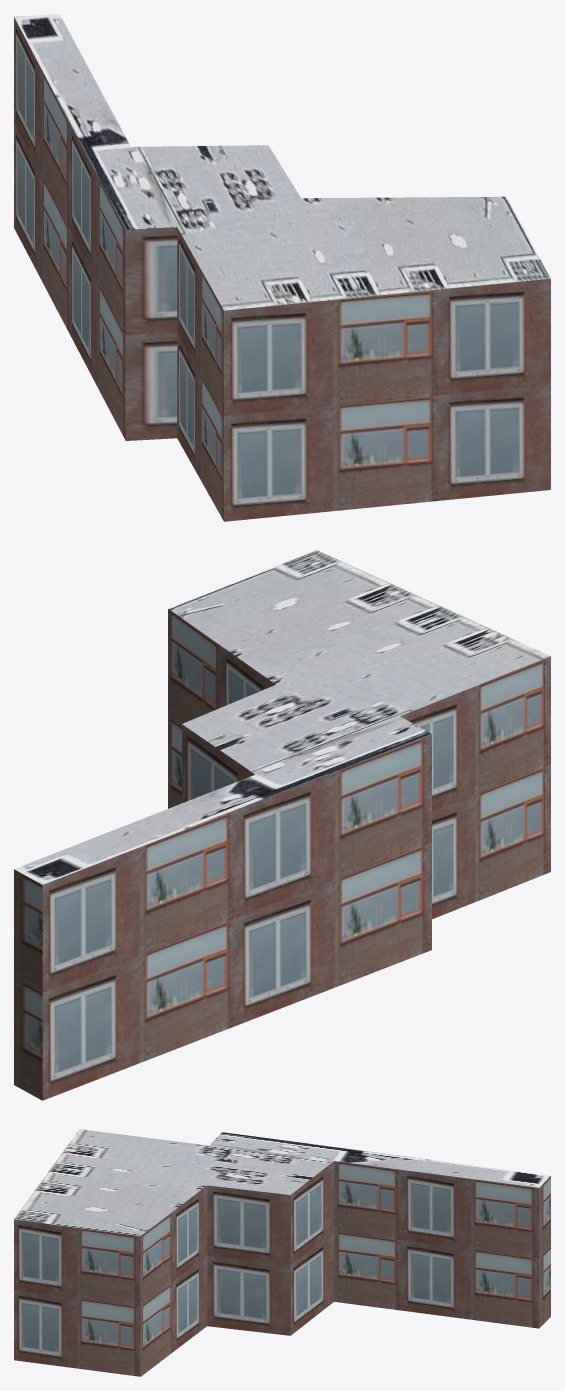
File: ResTex__2663.fbx
The picture shows the model from 3 angles, top to bottom: view 1: azimuth 30°, elevation 25°; view 2: azimuth 150°, elevation 25°; view 3: azimuth 270°, elevation 25°; orthographic projection. The views are drawn at different scales.
Visible parts, largest first — view 1: CityEngineMaterial_19_m, CityEngineMaterial_15_m; view 2: CityEngineMaterial_19_m, CityEngineMaterial_15_m; view 3: CityEngineMaterial_19_m, CityEngineMaterial_15_m.
Boxes of the visible parts, box(x1,y1,x2,y2) form: CityEngineMaterial_19_m: box(14, 17, 550, 521); CityEngineMaterial_15_m: box(14, 14, 550, 310); CityEngineMaterial_19_m: box(14, 609, 550, 1100); CityEngineMaterial_15_m: box(14, 550, 550, 884); CityEngineMaterial_19_m: box(14, 1161, 550, 1376); CityEngineMaterial_15_m: box(14, 1129, 550, 1235).
Bounding box in the file's own units: 9.77 × 6 × 20.74.
Materials: 2 (2 with a texture image).
